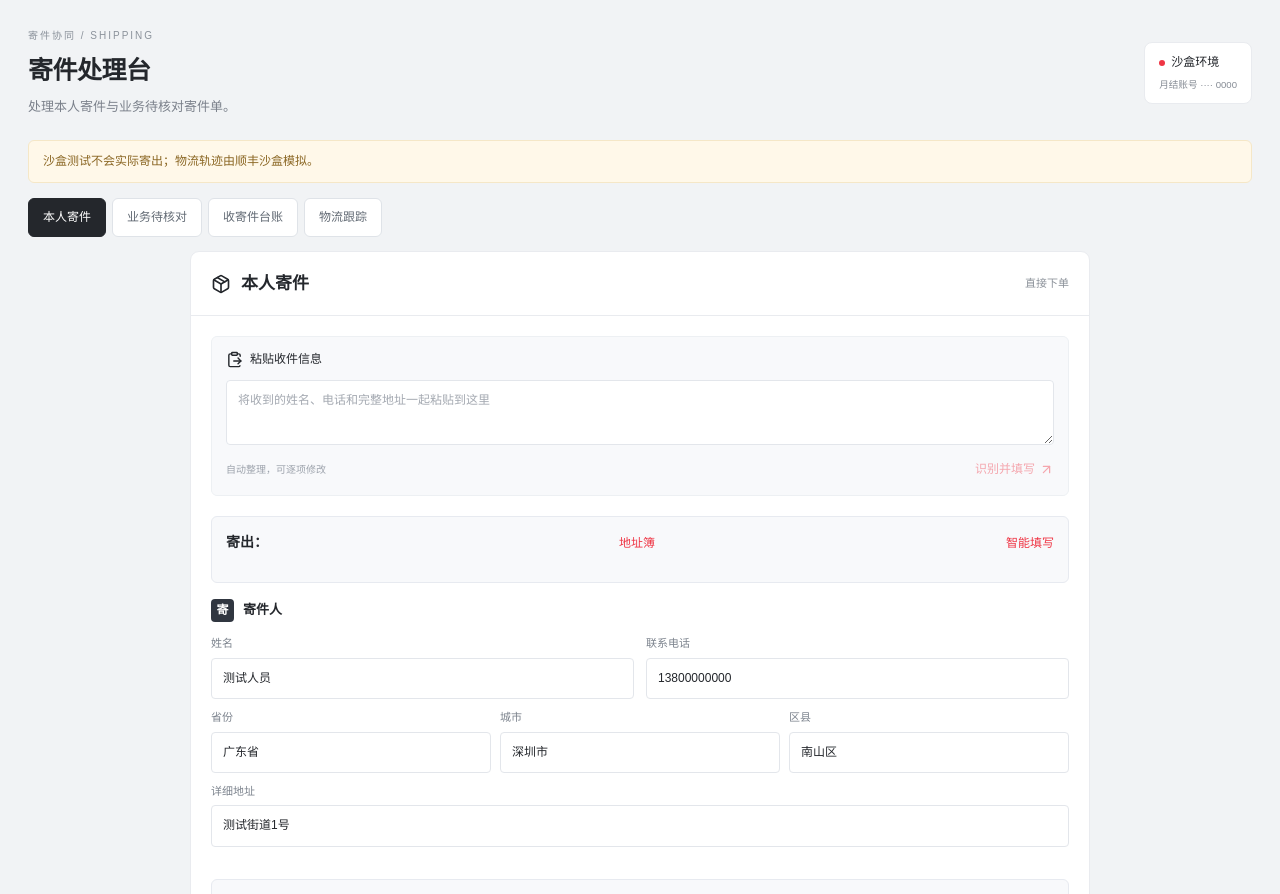
Test: one screen shipping interaction › returns to the list after a tracking response (200)
Click the button "物流跟踪". click: (343, 218)
box: [304,198,382,237]
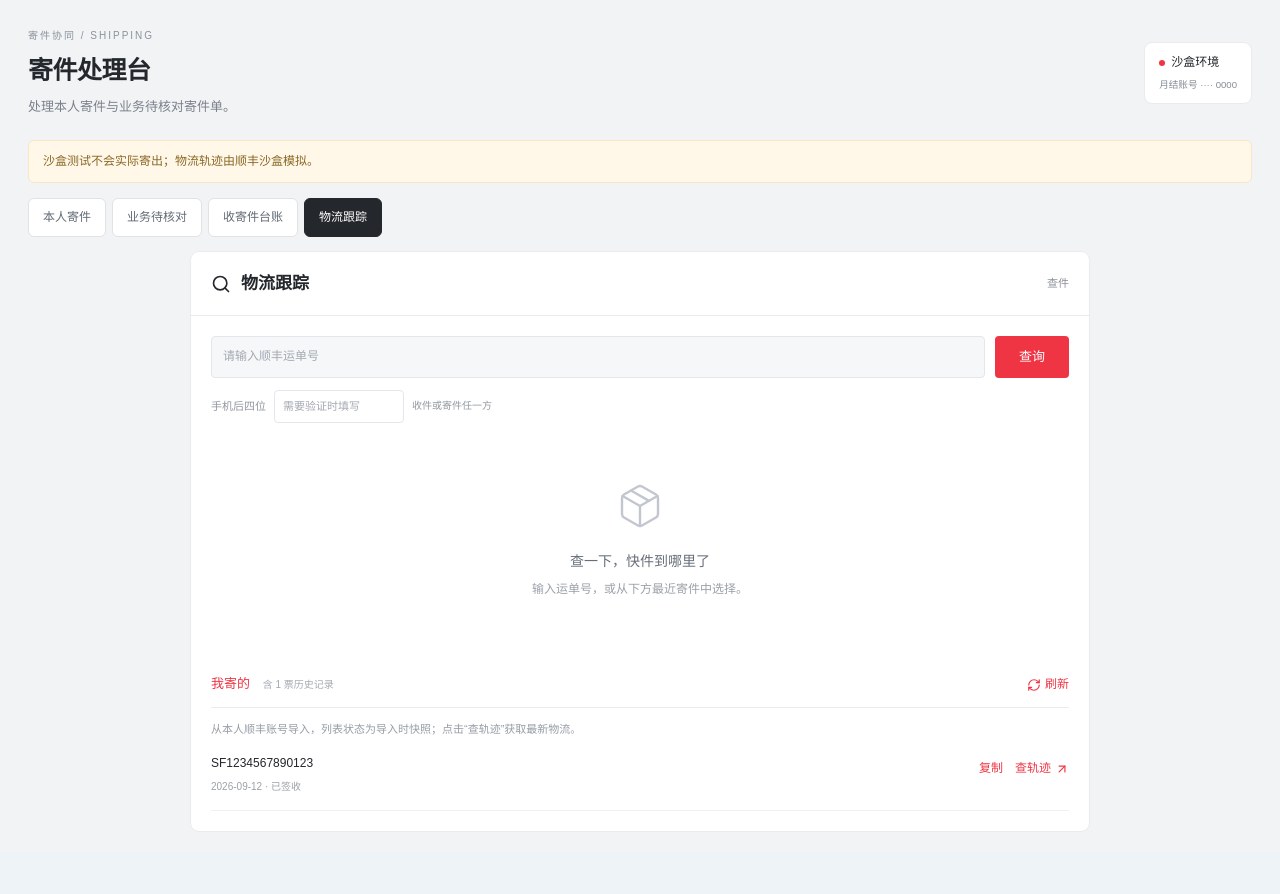
Click the button "查轨迹". click: (1042, 769)
box: [1015,756,1069,781]
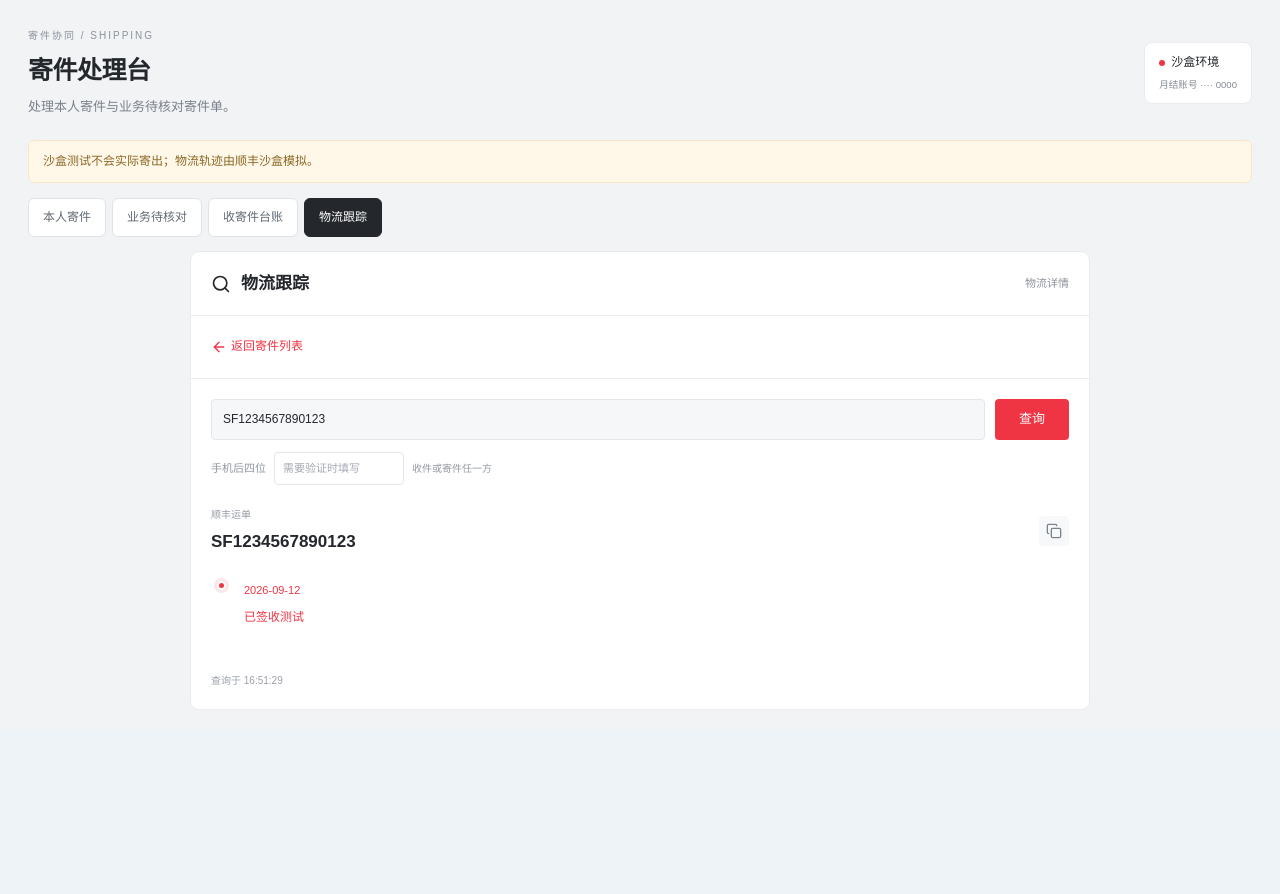
Expected: the text "已签收测试" is shown, [244,610,304,624]
Click the button "返回寄件列表". click: (257, 347)
box: [211,334,303,360]
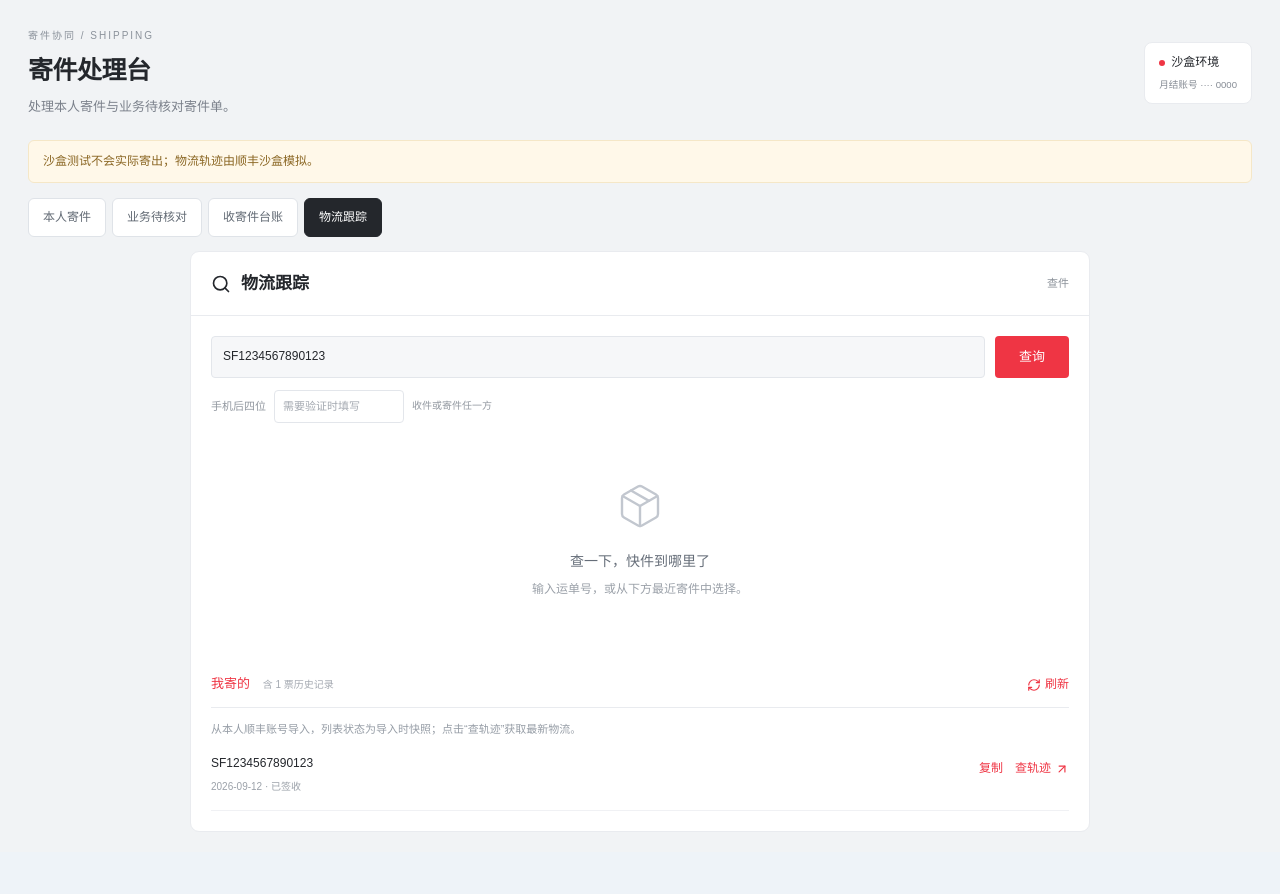
Expected: the button "查轨迹" is shown, [1015,756,1069,781]
Expected: the text "已签收测试" is gone
